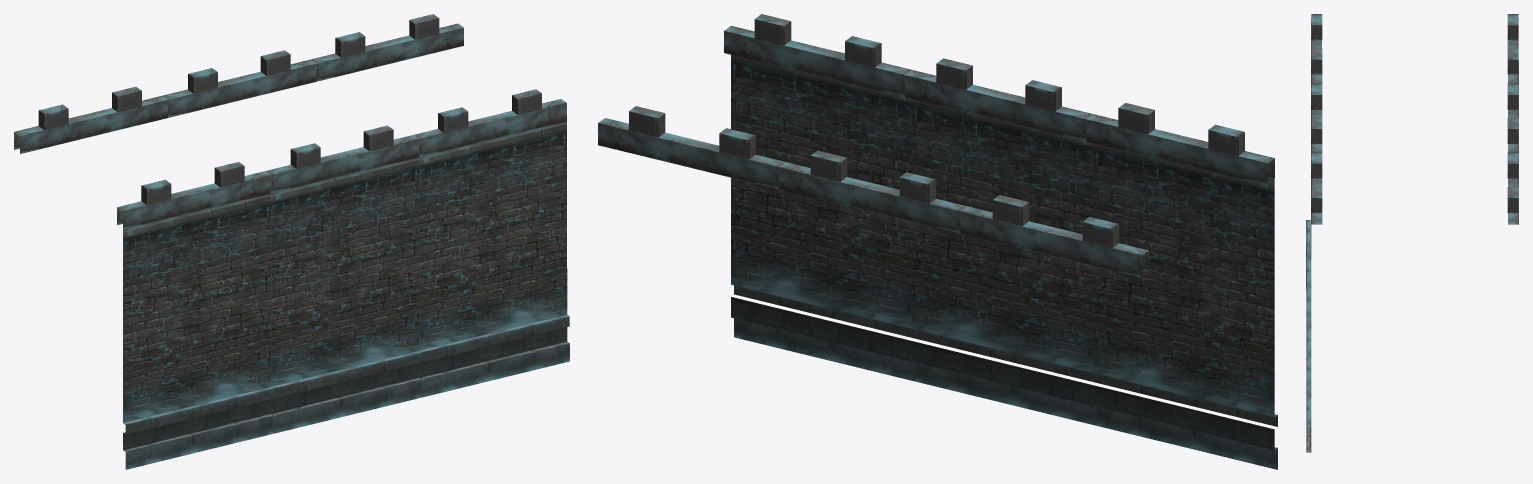
File: chengqiang02.FBX
The picture shows the model from 3 angles, left to right: view 1: azimuth 30°, elevation 25°; view 2: azimuth 150°, elevation 25°; view 3: azimuth 270°, elevation 25°; orthographic projection. The views are drawn at different scales.
Visible parts, largest first — view 1: s7_city_new_chengqiang01; view 2: s7_city_new_chengqiang01; view 3: s7_city_new_chengqiang01.
Boxes of the visible parts, x1=… form: s7_city_new_chengqiang01: x1=14, y1=14, x2=569, y2=469; s7_city_new_chengqiang01: x1=598, y1=14, x2=1277, y2=469; s7_city_new_chengqiang01: x1=1306, y1=14, x2=1518, y2=452.
Bounding box in the file's own units: 20.84 × 12.2 × 9.04.
